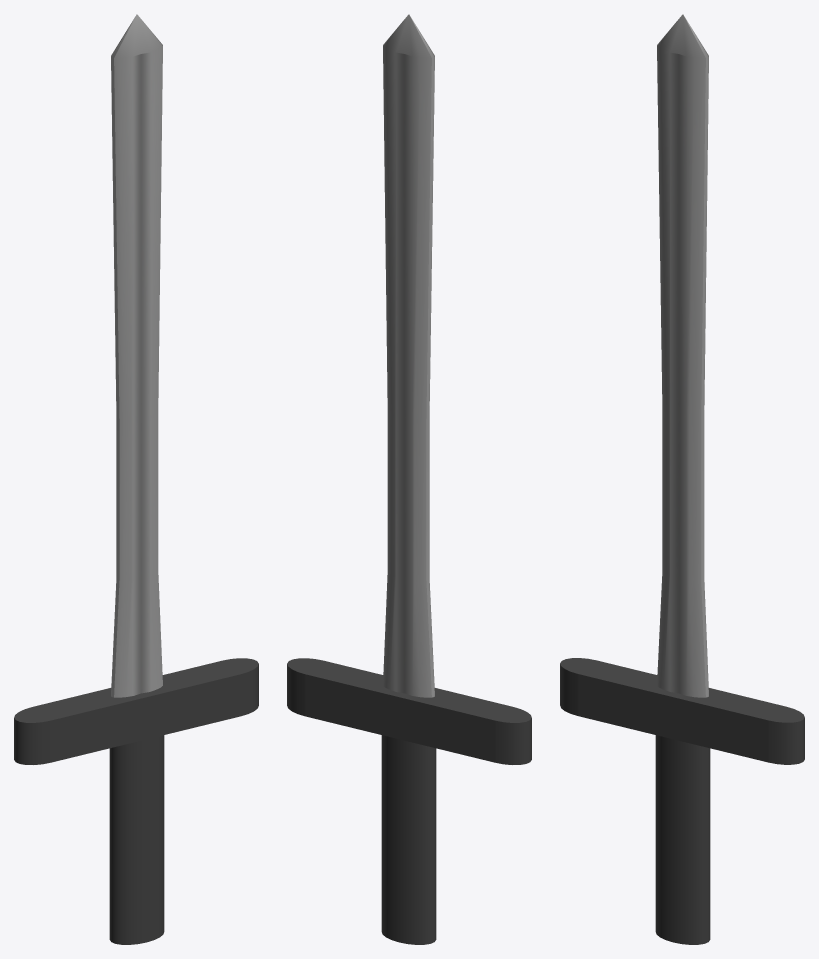
File: sword.fbx
The picture shows the model from 3 angles, left to right: view 1: azimuth 30°, elevation 25°; view 2: azimuth 150°, elevation 25°; view 3: azimuth 330°, elevation 25°; orthographic projection.
Visible parts, largest first — view 1: pCylinder1; view 2: pCylinder1; view 3: pCylinder1.
Part boxes in pixels (x1,y1,x2,y2): pCylinder1: (14, 14, 258, 944); pCylinder1: (287, 14, 531, 944); pCylinder1: (560, 14, 804, 944).
Bounding box in the file's own units: 7.96 × 29.01 × 1.06.
